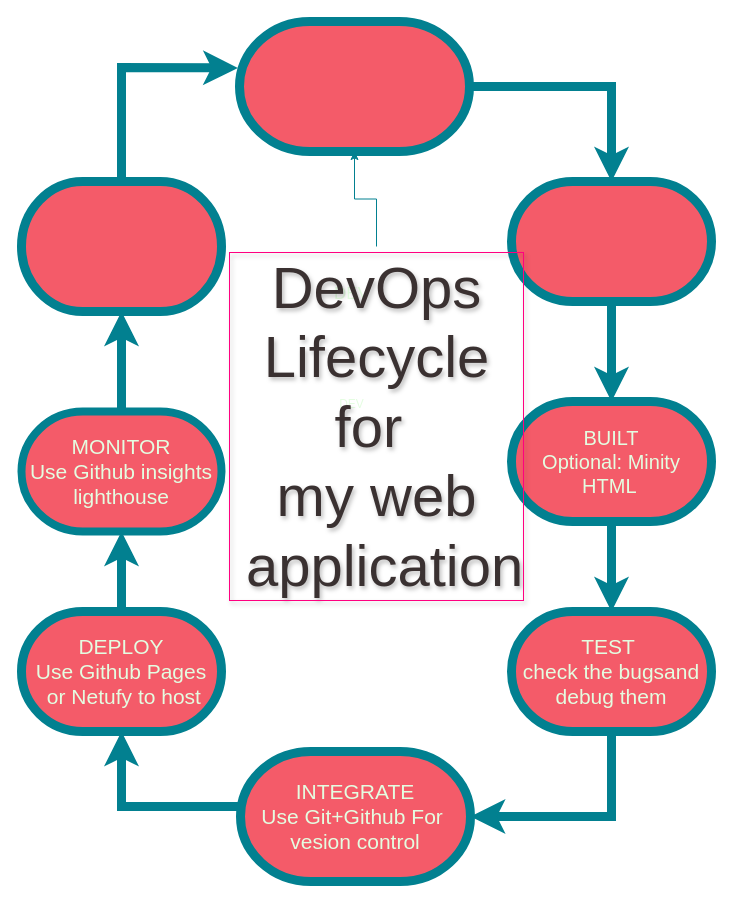
The diagram is 733 pixels wide and 907 high, and some of its shapes have lost their labels. The centre of each missing label's shape, as x and y in pixels:
Develop Write HtTML cade (like your html index html): the point at 611,241
OPERATE Check performence Accessibility: the point at 121,246
PLAN Definr features like tables and layouts: the point at 354,86
